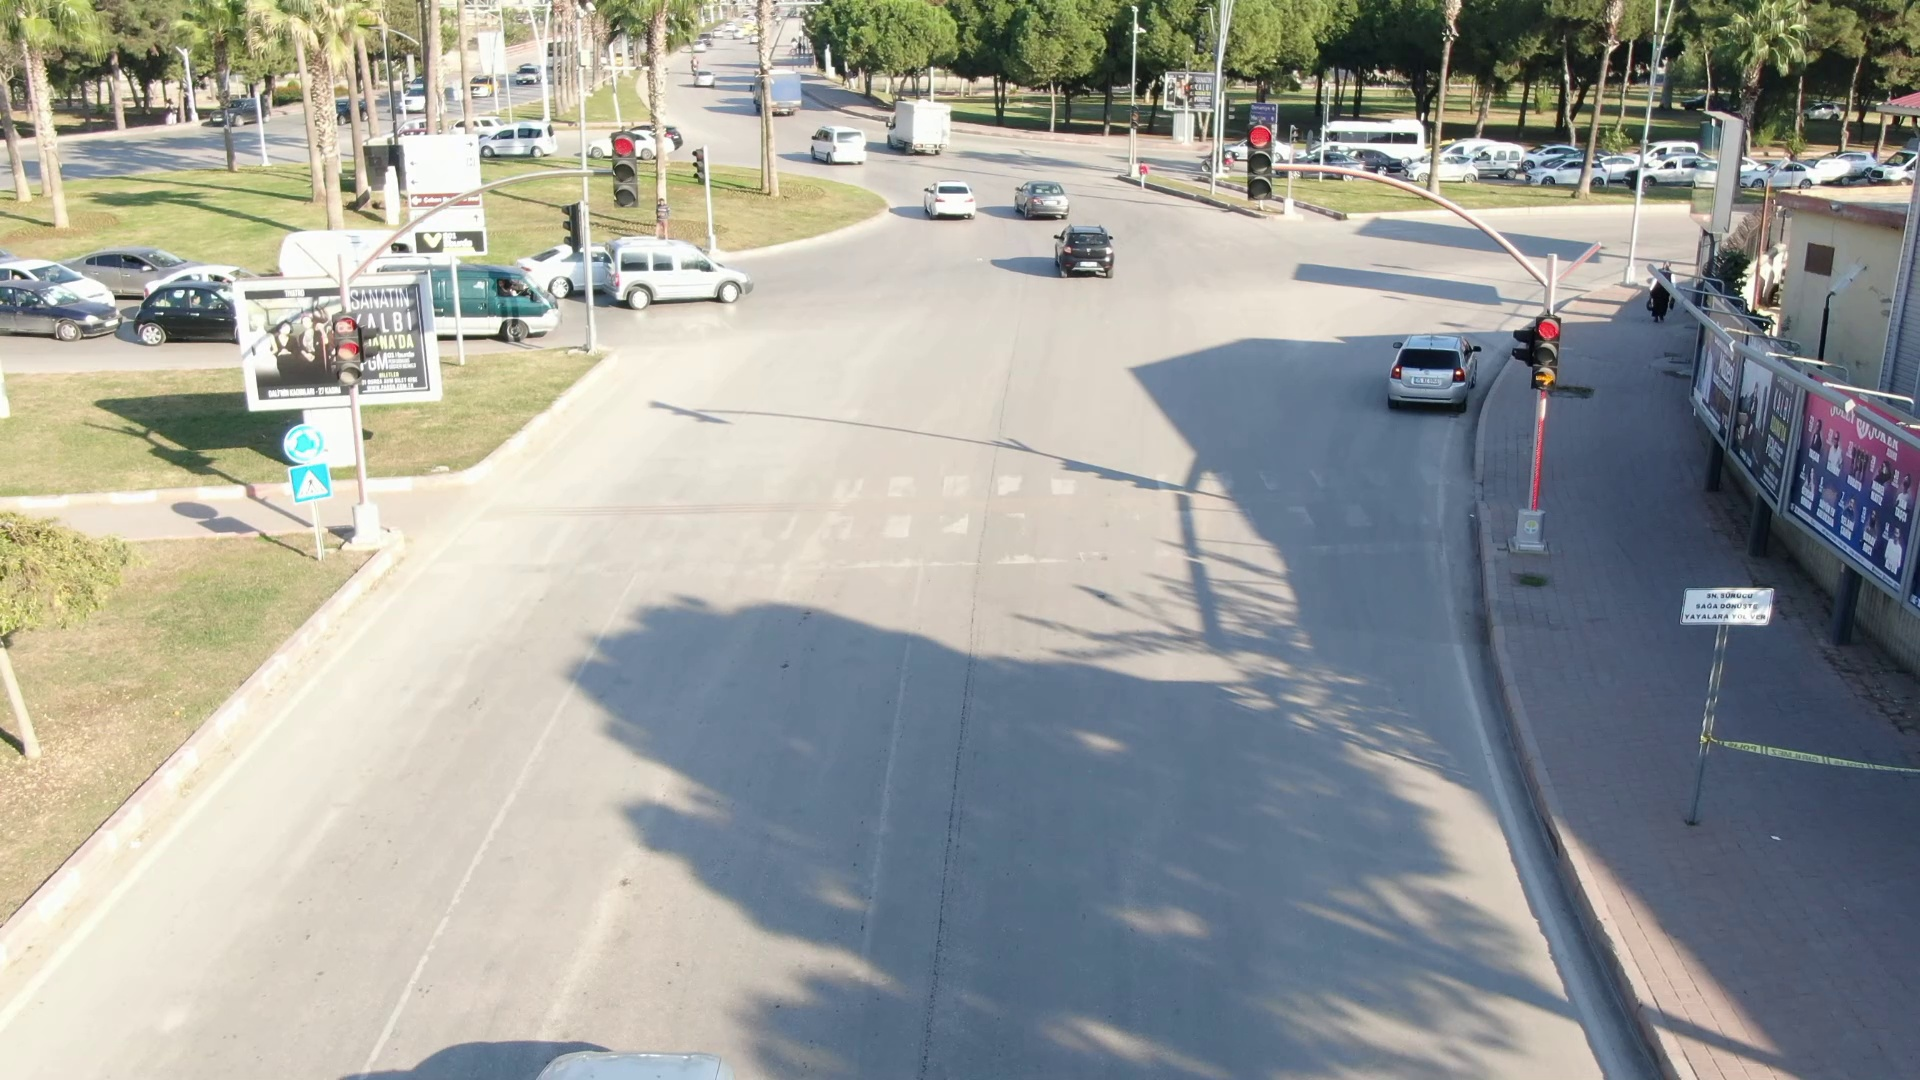car: (592, 225, 760, 319), (1358, 311, 1489, 425), (880, 100, 971, 169), (1038, 214, 1122, 286), (796, 120, 878, 170), (1002, 170, 1067, 225), (919, 179, 982, 222)
